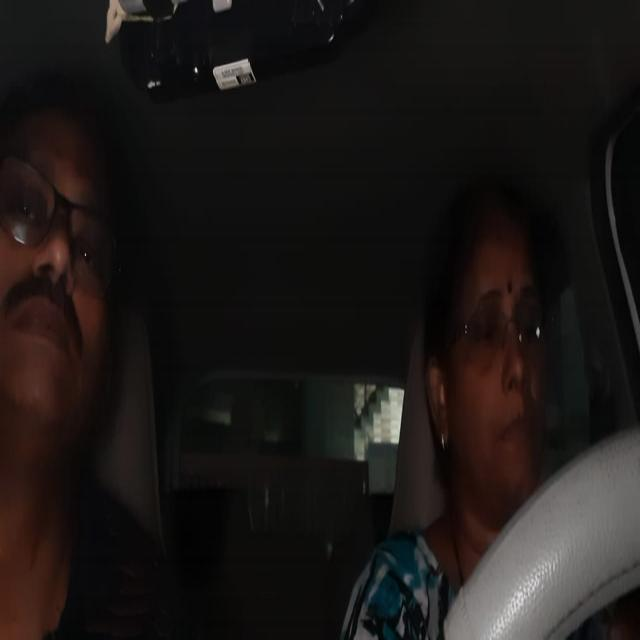drowsy: (423, 170, 577, 547)
person: (0, 61, 132, 486)
